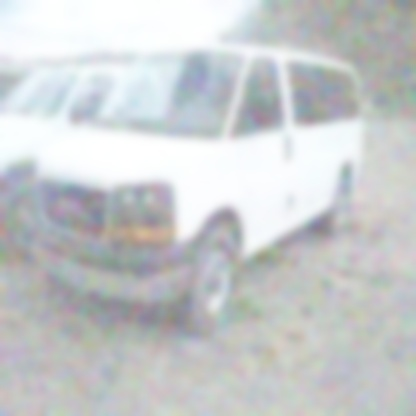Vehicle: (26, 43, 370, 332)
